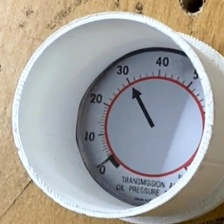gauge: (77, 48, 205, 207)
